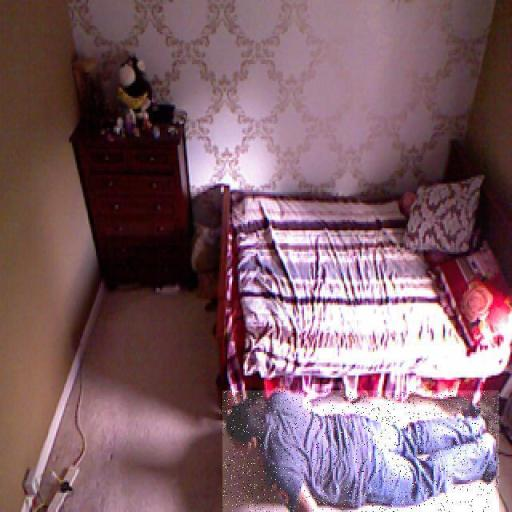Fall: (223, 390, 500, 512)
